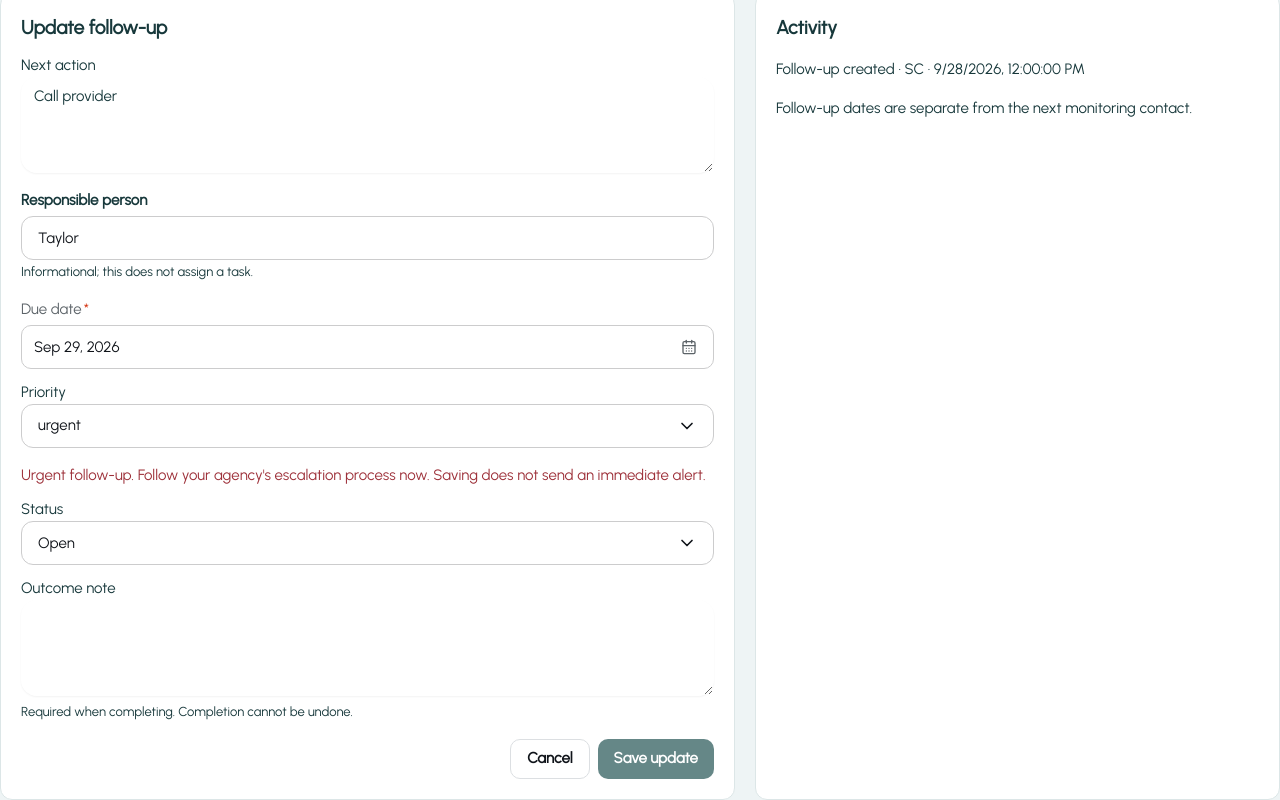
Test case: reloads a changed follow-up before another agency edit
(page scrolled)
Click the dropdown named "Status": (56, 543) [21, 522, 714, 566]
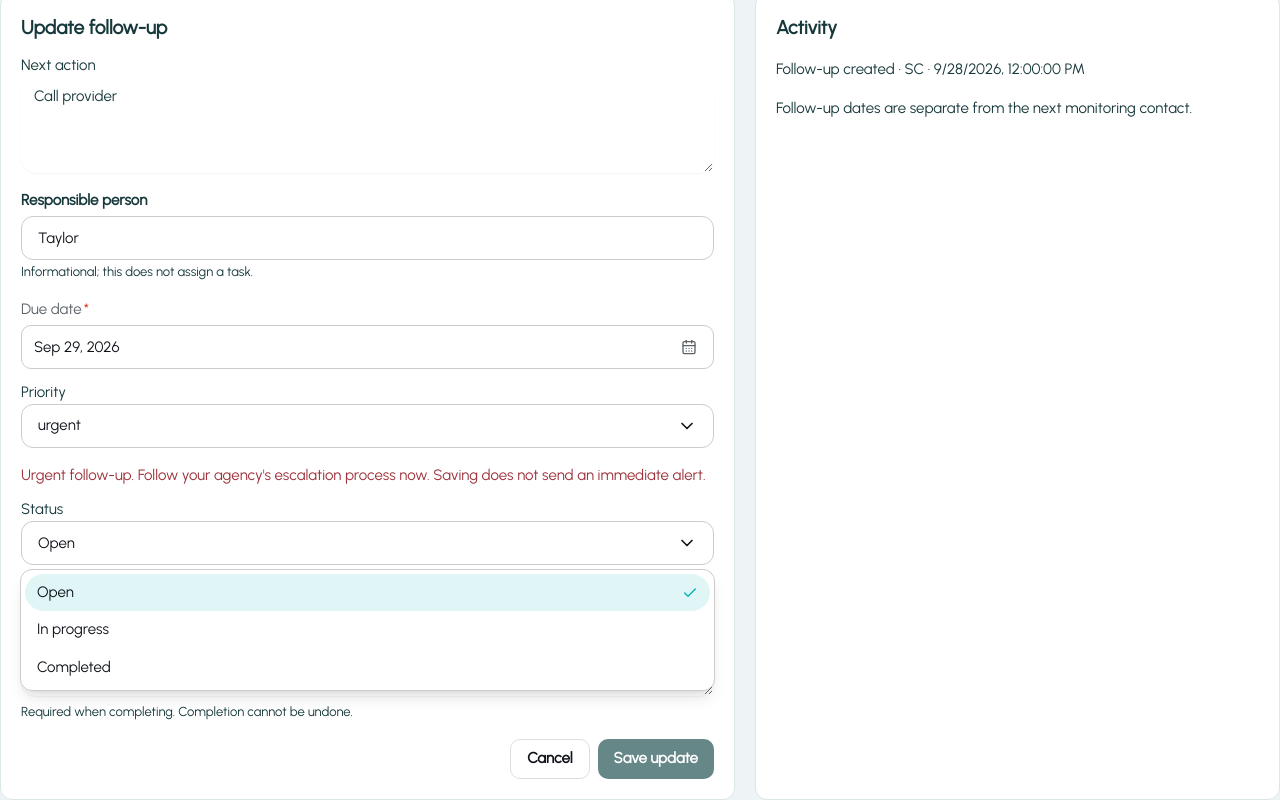
Click the option "In progress": (73, 629) [37, 620, 109, 638]
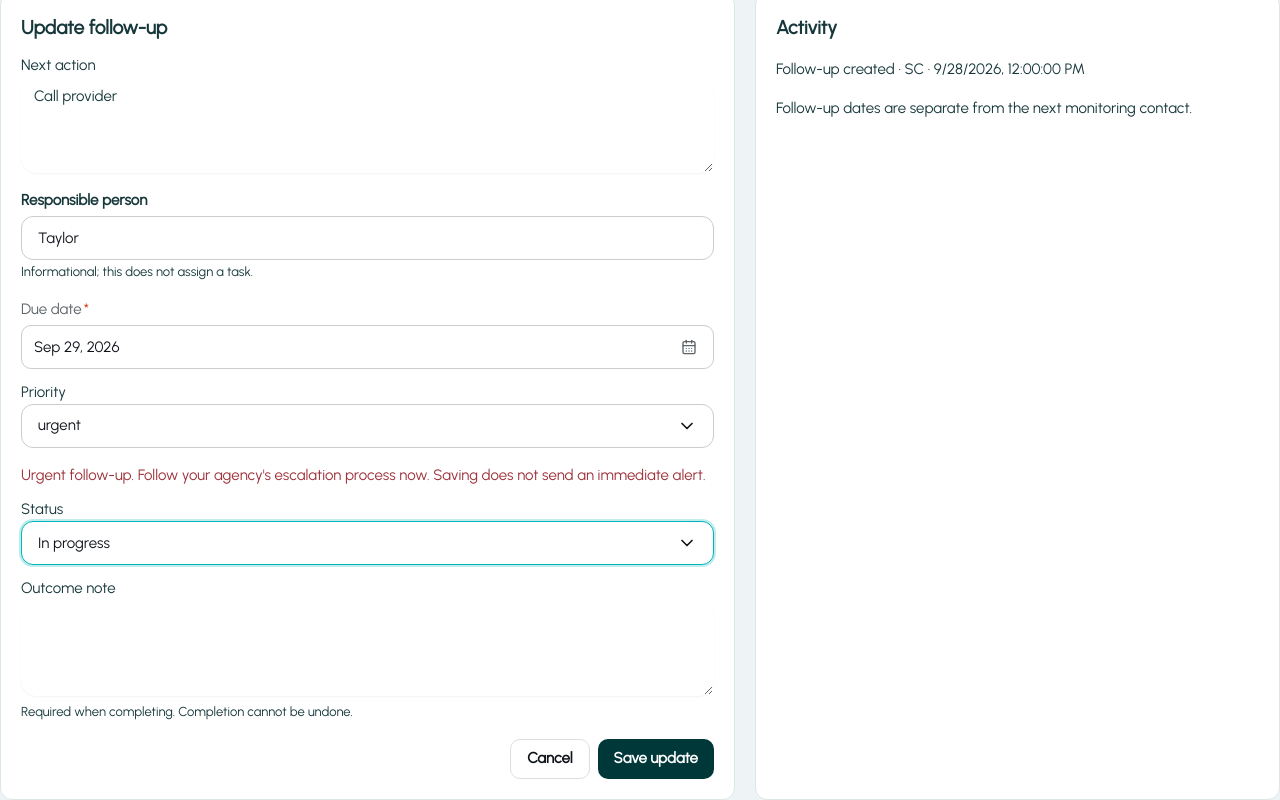
Click the button "Save update": (656, 759) [598, 739, 714, 779]
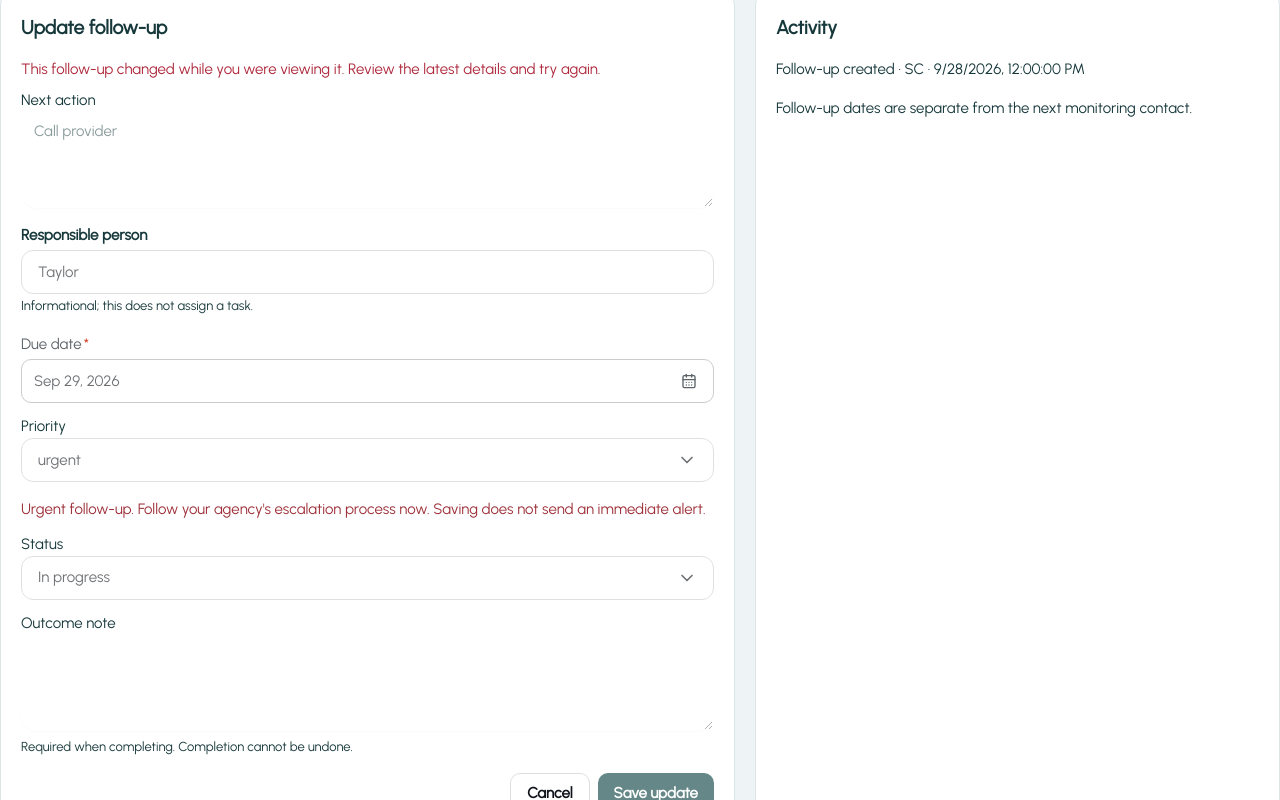
Expected: the text "This follow-up changed while you were viewing it. Review the latest details and try again." is shown, [21, 60, 600, 78]
